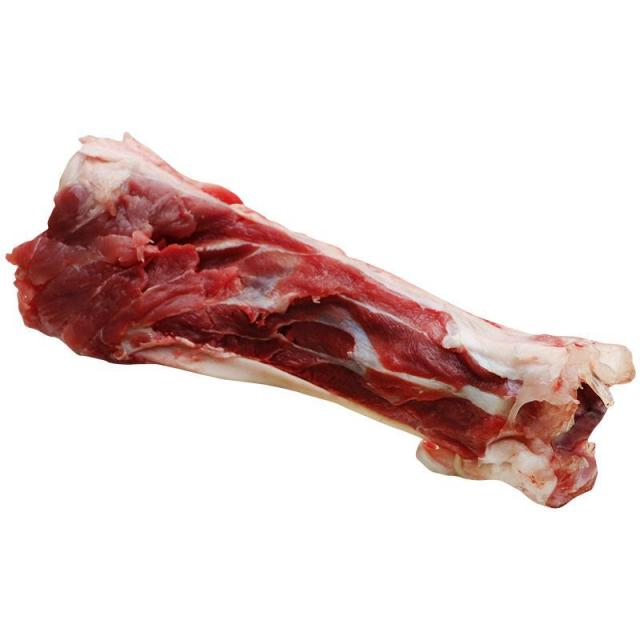organic: (6, 134, 637, 511)
